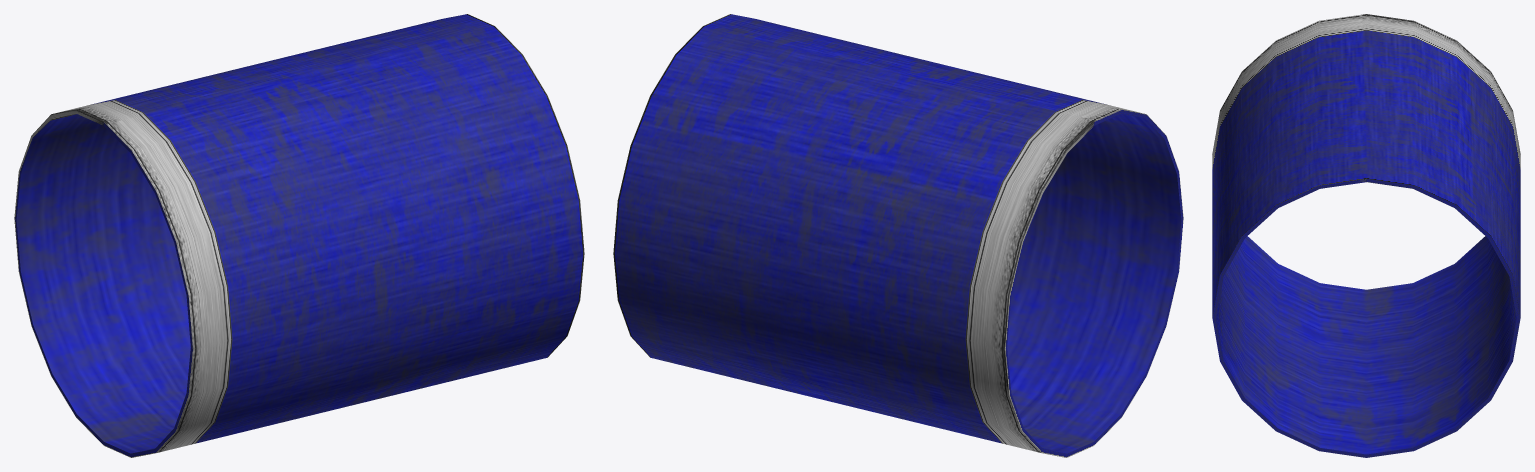
File: CubeBaseFrontPipeLeftB.fbx
3 renders of one model, left to right at view 1: azimuth 30°, elevation 25°; view 2: azimuth 150°, elevation 25°; view 3: azimuth 270°, elevation 25°, orthographic. The views are drawn at different scales.
Parts seen in each view (by area): view 1: pPipe1; view 2: pPipe1; view 3: pPipe1.
Boxes of the visible parts, x1,y1,x2,y2 form: pPipe1: (14,14,584,457); pPipe1: (613,14,1183,457); pPipe1: (1212,14,1520,457).
Bounding box in the file's own units: 1.01 × 0.8 × 0.8.
Materials: 1 (1 with a texture image).
